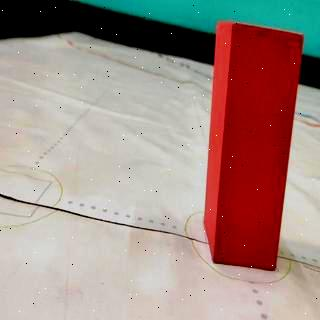redbox: (214, 22, 284, 268)
